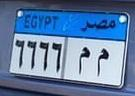6: (51, 40, 63, 73), (38, 40, 50, 72), (26, 40, 37, 70), (14, 38, 25, 68)
meem: (95, 45, 110, 78), (77, 44, 91, 76)
